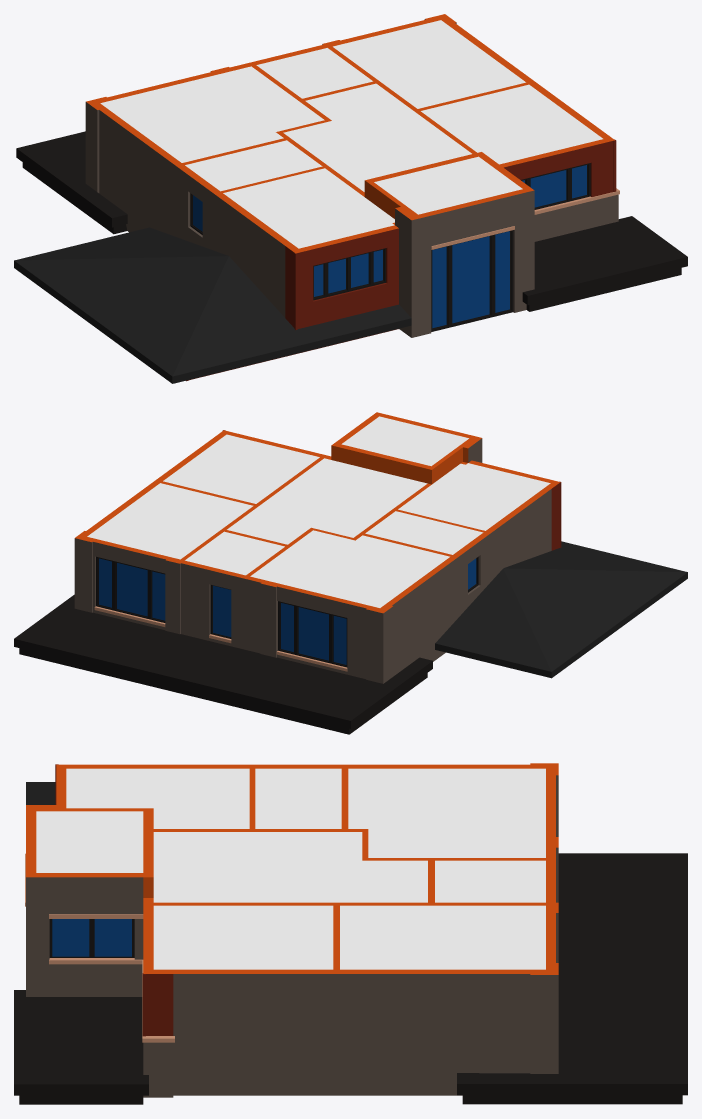
The model's file is 2ndFloor.FBX.
3 views of the same model, one above another, from view 1: azimuth 30°, elevation 25°; view 2: azimuth 150°, elevation 25°; view 3: azimuth 270°, elevation 25° (orthographic). The views are drawn at different scales.
Visible parts, largest first — view 1: Shingles, 2ndFL_ExtWall, 2ndFL_BedroomMB_Wall, 2ndFL_Section, 2ndFL_FloorHallway_Wall, MainEntrance_Roof, 2ndFL_Bedroom01_Wall, 2ndFL_WinGlass (×3), 2ndFL_Bedroom02_Wall, 2ndFloor_Bedroom03_Wall, 2ndFL_WoodFacade_02, 2ndFL_Foyer (+7 smaller); view 2: 2ndFL_ExtWall, MainEntrance_Roof001, Shingles, 2ndFL_Section, 2ndFL_FloorHallway_Wall, 2ndFL_BedroomMB_Wall, 2ndFL_Bedroom01_Wall, 2ndFL_WinGlass (×2), 2ndFL_Bedroom02_Wall, 2ndFloor_Bedroom03_Wall, 2ndFL_Foyer, 2ndFloor_WashroomMB_Wall (+5 smaller); view 3: 2ndFL_ExtWall, MainEntrance_Roof001, 2ndFL_FloorHallway_Wall, 2ndFL_BedroomMB_Wall, 2ndFL_Section, MainEntrance_Roof, 2ndFL_Bedroom01_Wall, 2ndFL_Bedroom02_Wall, 2ndFloor_Bedroom03_Wall, 2ndFL_Foyer, 2ndFloor_WashroomMB_Wall, 2ndFL_Washroom_Wall (+5 smaller).
Boxes of the visible parts, x1=… form: Shingles: x1=14, y1=227, x2=411, y2=376; 2ndFL_ExtWall: x1=85, y1=19, x2=618, y2=337; 2ndFL_BedroomMB_Wall: x1=100, y1=66, x2=324, y2=162; 2ndFL_Section: x1=86, y1=14, x2=614, y2=253; 2ndFL_FloorHallway_Wall: x1=283, y1=83, x2=471, y2=191; MainEntrance_Roof: x1=522, y1=216, x2=687, y2=311; 2ndFL_Bedroom01_Wall: x1=333, y1=20, x2=525, y2=108; 2ndFL_WinGlass (×3): x1=314, y1=165, x2=586, y2=328; 2ndFL_Bedroom02_Wall: x1=421, y1=84, x2=602, y2=164; 2ndFloor_Bedroom03_Wall: x1=223, y1=168, x2=394, y2=248; 2ndFL_WoodFacade_02: x1=186, y1=228, x2=398, y2=381; 2ndFL_Foyer: x1=374, y1=156, x2=522, y2=214; 2ndFL_ExtWall: x1=74, y1=438, x2=551, y2=683; MainEntrance_Roof001: x1=14, y1=594, x2=432, y2=734; Shingles: x1=435, y1=541, x2=687, y2=671; 2ndFL_Section: x1=75, y1=412, x2=560, y2=613; 2ndFL_FloorHallway_Wall: x1=227, y1=458, x2=427, y2=544; 2ndFL_BedroomMB_Wall: x1=250, y1=530, x2=449, y2=607; 2ndFL_Bedroom01_Wall: x1=87, y1=483, x2=253, y2=559; 2ndFL_WinGlass (×2): x1=99, y1=558, x2=346, y2=664; 2ndFL_Bedroom02_Wall: x1=163, y1=434, x2=319, y2=503; 2ndFloor_Bedroom03_Wall: x1=398, y1=463, x2=550, y2=530; 2ndFL_Foyer: x1=341, y1=416, x2=468, y2=466; 2ndFloor_WashroomMB_Wall: x1=365, y1=511, x2=483, y2=554; 2ndFL_ExtWall: x1=26, y1=775, x2=558, y2=1097; MainEntrance_Roof001: x1=457, y1=853, x2=687, y2=1104; 2ndFL_FloorHallway_Wall: x1=153, y1=832, x2=427, y2=902; 2ndFL_BedroomMB_Wall: x1=348, y1=768, x2=545, y2=857; 2ndFL_Section: x1=26, y1=763, x2=558, y2=974; MainEntrance_Roof: x1=14, y1=990, x2=148, y2=1104; 2ndFL_Bedroom01_Wall: x1=340, y1=905, x2=545, y2=969; 2ndFL_Bedroom02_Wall: x1=153, y1=905, x2=333, y2=969; 2ndFloor_Bedroom03_Wall: x1=66, y1=768, x2=249, y2=828; 2ndFL_Foyer: x1=36, y1=811, x2=143, y2=872; 2ndFloor_WashroomMB_Wall: x1=255, y1=768, x2=341, y2=828; 2ndFL_Washroom_Wall: x1=435, y1=860, x2=545, y2=902.
Bounding box in the file's own units: 15.8 × 3.98 × 14.96.
